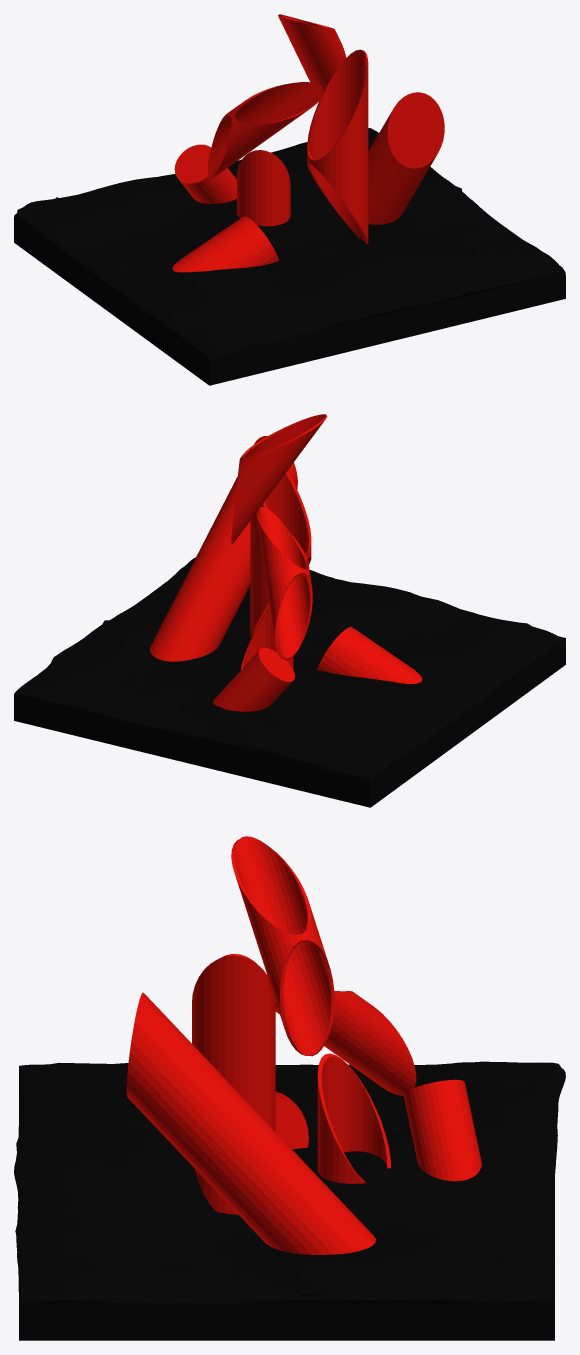
File: preview.glb
3 views of the same model, one above another, from view 1: azimuth 30°, elevation 25°; view 2: azimuth 150°, elevation 25°; view 3: azimuth 270°, elevation 25° (orthographic). The views are drawn at different scales.
Visible parts, largest first — view 1: 0, Gate of Hope_Material.001_0; view 2: 0, Gate of Hope_Material.001_0; view 3: 0, Gate of Hope_Material.001_0.
Part boxes in pixels (x1,y1,x2,y2): 0: [14, 128, 565, 385]; Gate of Hope_Material.001_0: [172, 14, 444, 272]; 0: [14, 557, 565, 807]; Gate of Hope_Material.001_0: [150, 414, 422, 711]; 0: [14, 1061, 565, 1340]; Gate of Hope_Material.001_0: [126, 836, 481, 1254].
Bounding box in the file's own units: 14.8 × 10.64 × 14.34.
